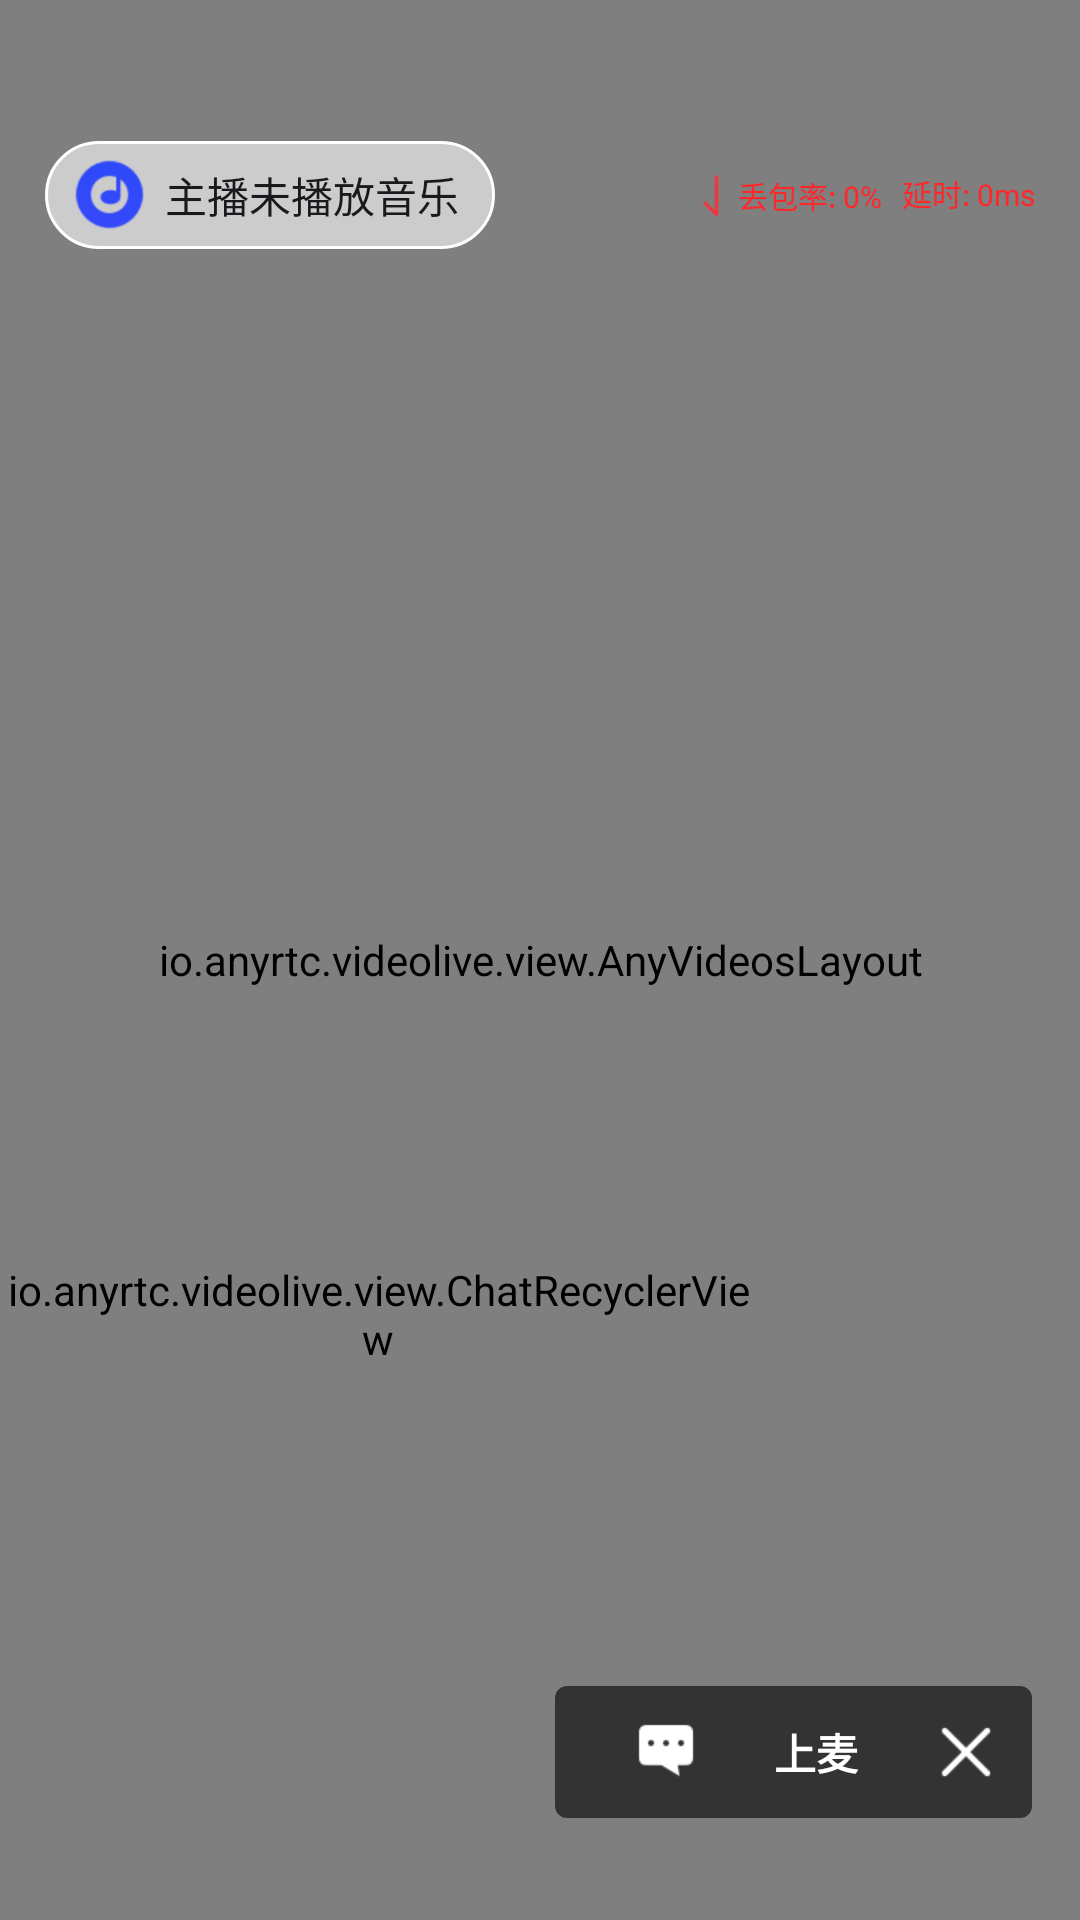

Icon bounding boxes for this 1080*1920 phone screenshot, format (x1, y1, x2, y2):
host chat: (639, 1725, 694, 1776)
host leave: (941, 1727, 991, 1777)
host music: (75, 160, 144, 229)
